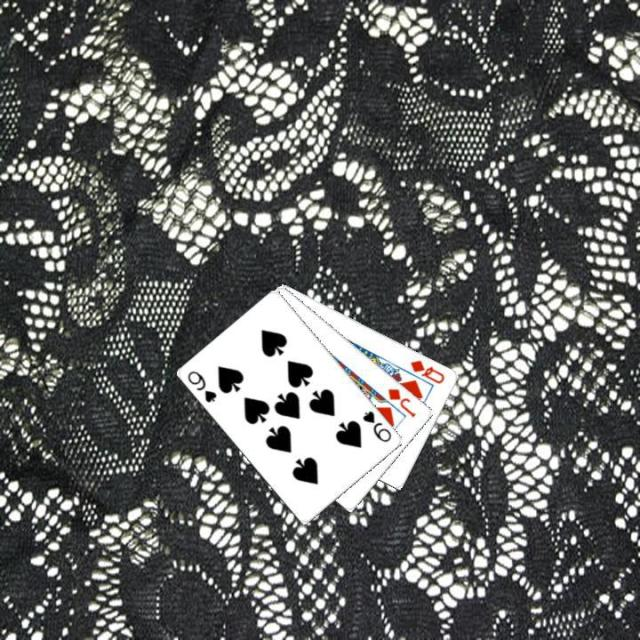9S: (359, 406, 394, 444), (184, 367, 219, 405)
JD: (384, 384, 418, 420)
QD: (406, 356, 446, 386)
